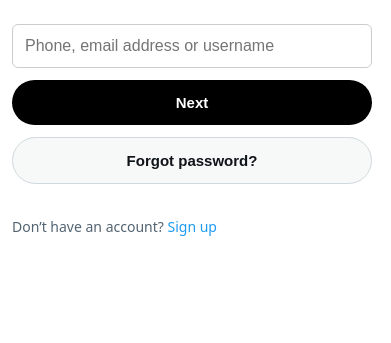
Test case: LoginForm › shows error if password is empty after clicking login
The image size is (391, 343).
Type "hamoudi@test.com" into the field with placeholder "Phone, email address or username" at (192, 46), box [12,24,372,68]
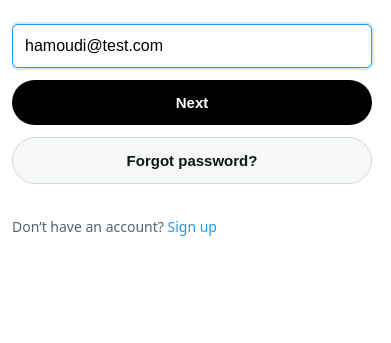
Click the button "Next" at (192, 102), box [12,80,372,125]
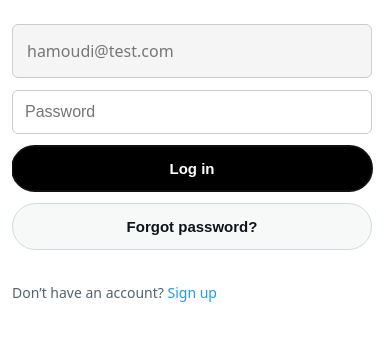
Click the button "Log in" at (192, 168), box [12,146,372,191]
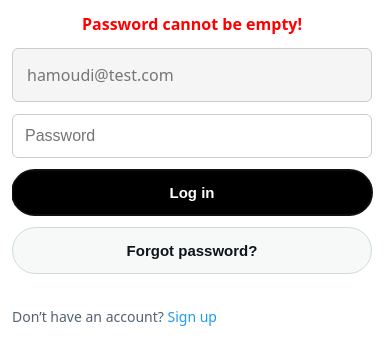
Now the text "Password cannot be empty!" is shown, box [82,12,302,36]
